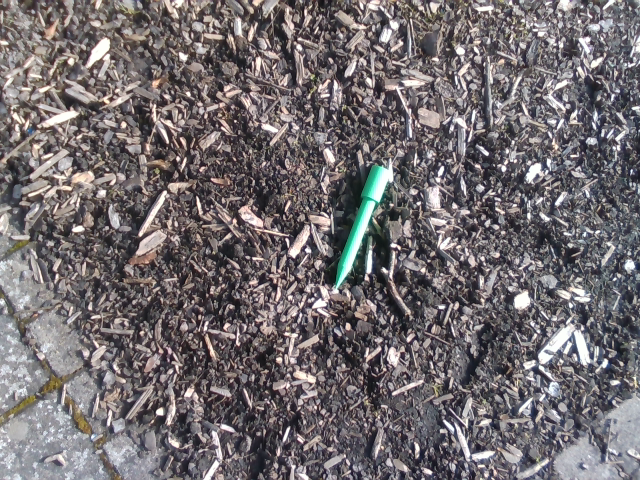Probe: (329, 160, 393, 297)
